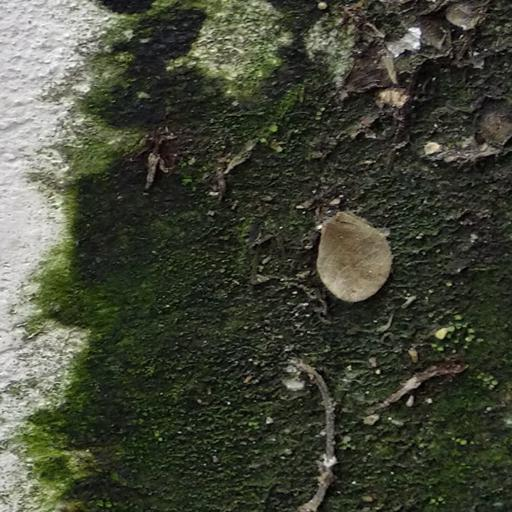algae: (39, 6, 512, 512)
